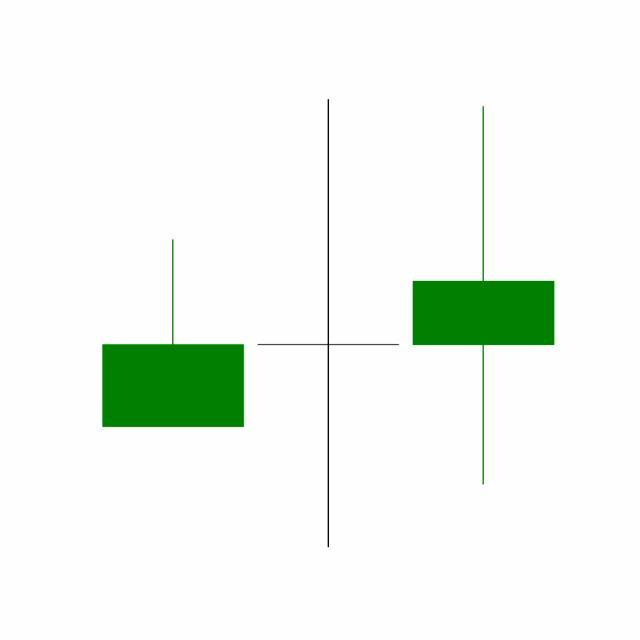Spinning Top: (406, 102, 562, 489)
